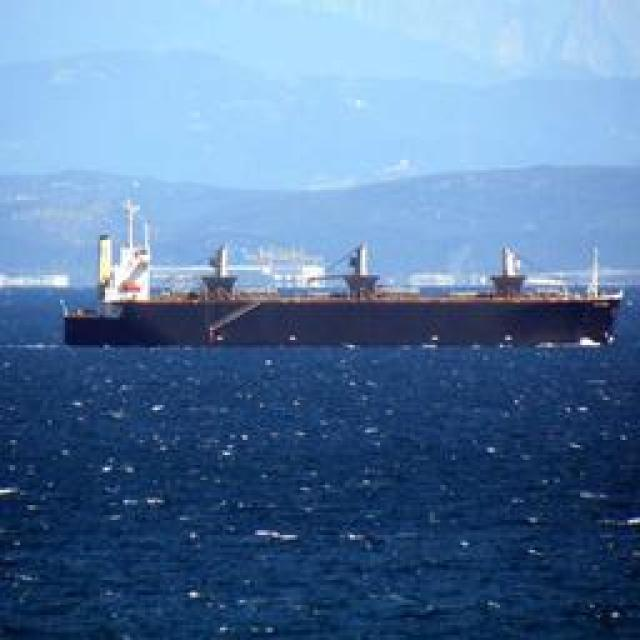ship2: (63, 198, 623, 350)
